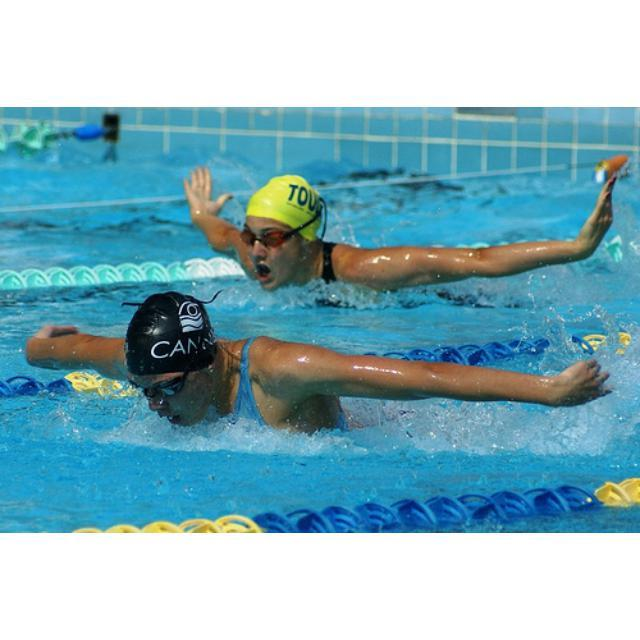human: (28, 289, 615, 441), (182, 169, 618, 291)
